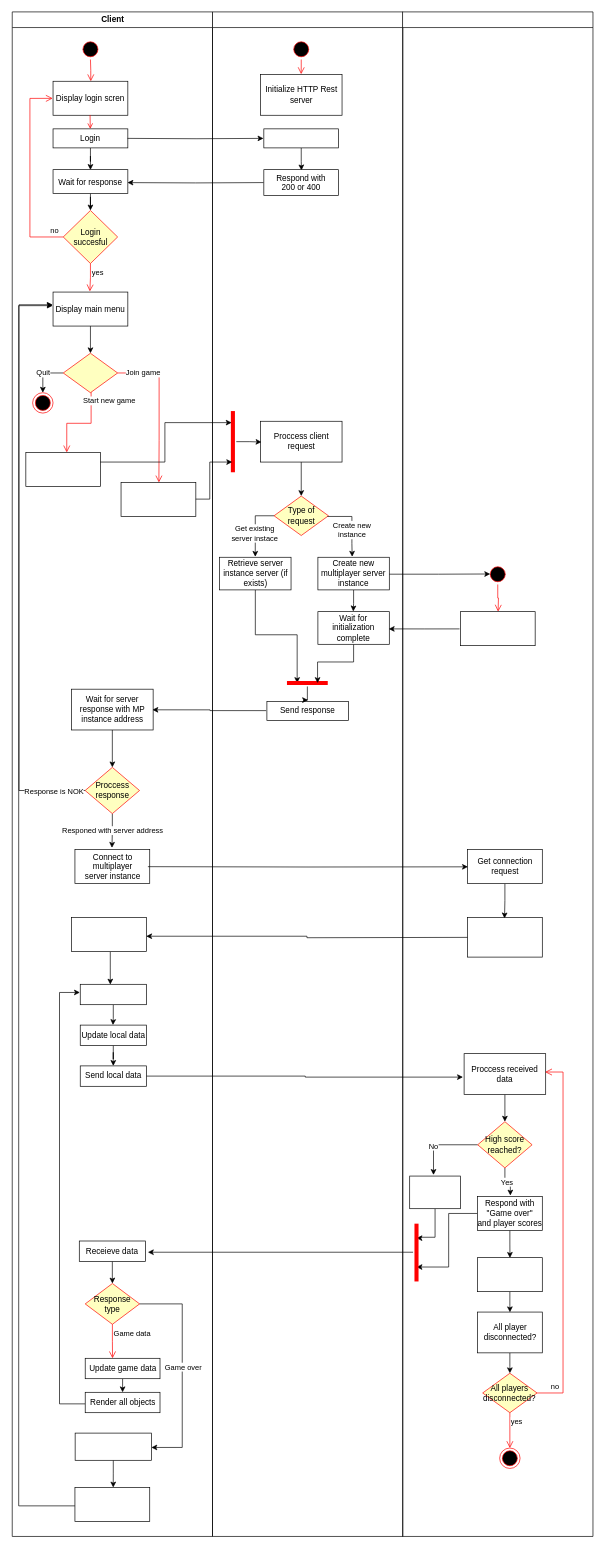
Some shapes in this 605 by 1548 pixel diagram are drawn without their labels. The box of each missing label's shape, as (x1, y1, x2, y2) in pixels:
Contact server to create new multiplayer instance: (25, 452, 101, 487)
Contact server to get multiplayer instance address: (120, 482, 196, 516)
Disconnect from server: (74, 1432, 151, 1460)
Disconnect player who submitted the request: (477, 1257, 542, 1292)
Get player input: (80, 984, 146, 1005)
Main Sever: (212, 11, 403, 1536)
Menu option: (63, 353, 118, 393)
Multiplayer Server Instance: (402, 11, 593, 1536)
Notify that the initialization is finished: (460, 611, 535, 646)
Receive login request: (263, 128, 339, 148)
Respond if the connected player is player 1 or 2: (467, 917, 542, 957)
Show game score screen: (74, 1487, 150, 1522)
Start the game: (71, 917, 146, 952)
Update global data: (409, 1175, 460, 1209)
